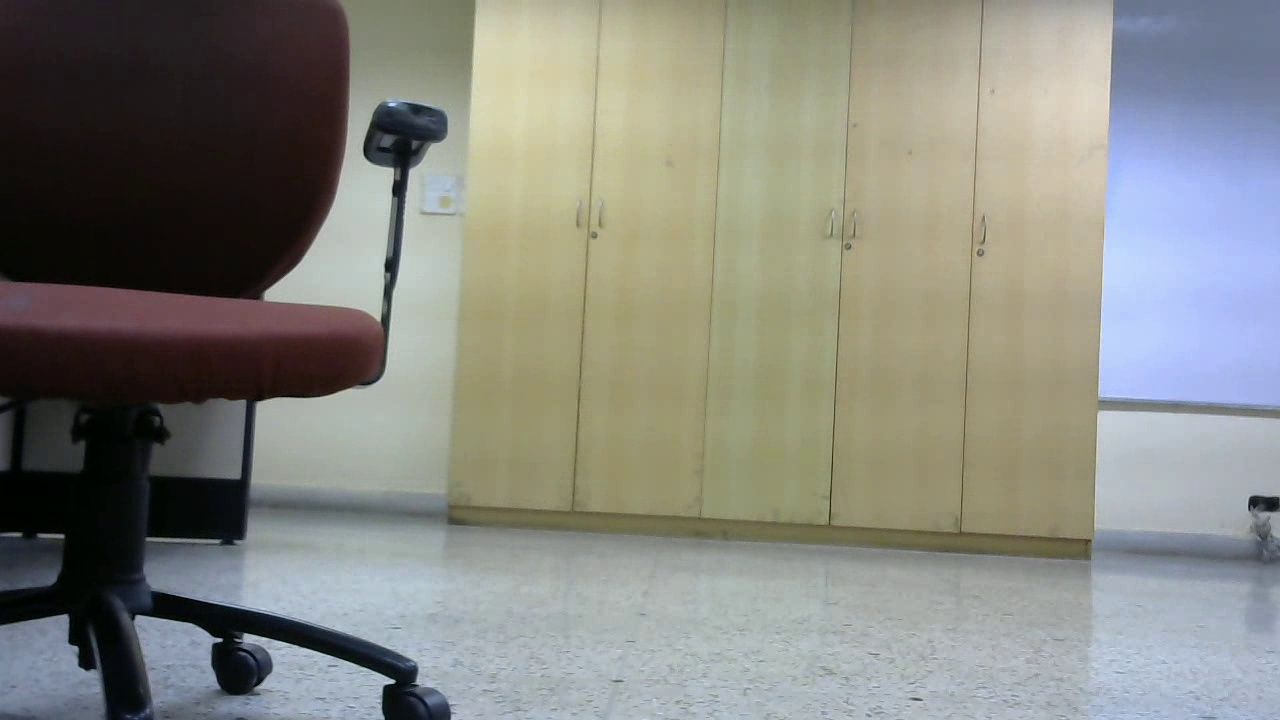chair: (714, 191, 1023, 608), (315, 174, 511, 541)
